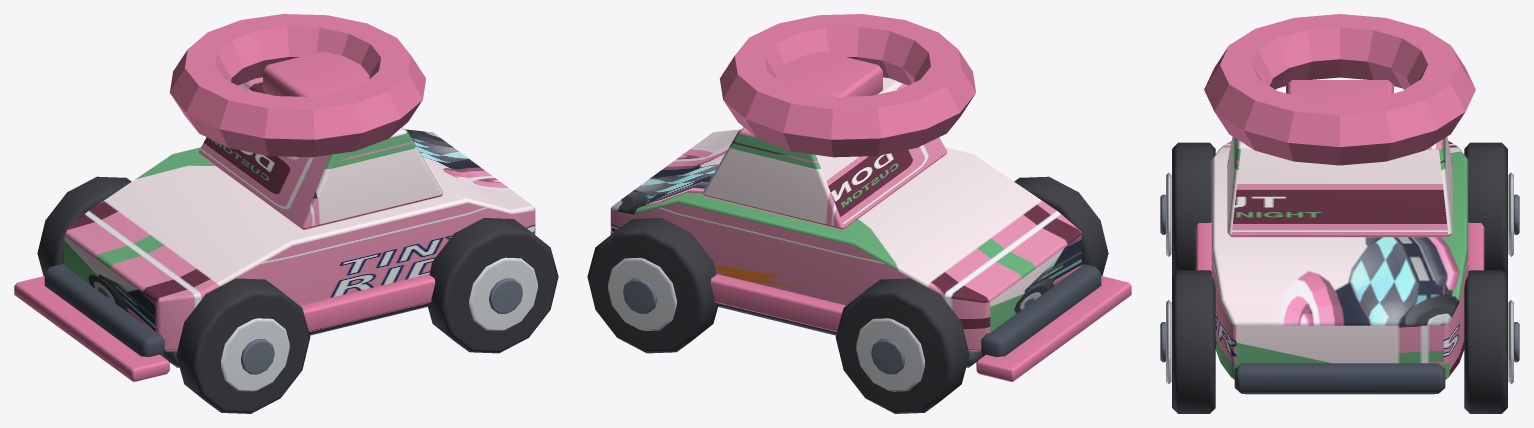
3 views of the same model, side by side, from view 1: azimuth 30°, elevation 25°; view 2: azimuth 150°, elevation 25°; view 3: azimuth 270°, elevation 25° (orthographic). The views are drawn at different scales.
Visible parts, largest first — view 1: SS-05_connected_shell, real donut ring, SS-05_cabin, Tire, Tire.002, custom chin, front bumper, custom side guard, custom equipment, Tire.001, Rim, Rim.002 (+3 smaller); view 2: SS-05_connected_shell, real donut ring, SS-05_cabin, Tire.001, Tire.003, custom chin, front bumper, custom side guard.001, custom equipment, Tire, Rim.001, Rim.003 (+3 smaller); view 3: SS-05_connected_shell, real donut ring, SS-05_cabin, rear bumper, Tire.002, Tire.003, Tire, Tire.001, custom equipment, custom side guard, custom side guard.001, Rim (+3 smaller).
Part boxes in pixels (bbox=[...]): SS-05_connected_shell: bbox=[64, 129, 535, 351]; real donut ring: bbox=[169, 14, 426, 157]; SS-05_cabin: bbox=[198, 77, 443, 230]; Tire: bbox=[176, 278, 310, 413]; Tire.002: bbox=[427, 218, 558, 353]; custom chin: bbox=[14, 276, 169, 382]; front bumper: bbox=[44, 263, 165, 356]; custom side guard: bbox=[299, 274, 435, 331]; custom equipment: bbox=[263, 51, 369, 96]; Tire.001: bbox=[37, 176, 131, 275]; Rim: bbox=[221, 318, 289, 391]; Rim.002: bbox=[469, 257, 537, 330]; SS-05_connected_shell: bbox=[610, 129, 1081, 351]; real donut ring: bbox=[719, 14, 976, 157]; SS-05_cabin: bbox=[702, 77, 947, 230]; Tire.001: bbox=[835, 278, 969, 413]; Tire.003: bbox=[587, 218, 718, 353]; custom chin: bbox=[976, 276, 1131, 382]; front bumper: bbox=[980, 263, 1101, 356]; custom side guard.001: bbox=[710, 274, 846, 331]; custom equipment: bbox=[776, 51, 882, 96]; Tire: bbox=[1014, 176, 1108, 275]; Rim.001: bbox=[856, 318, 924, 391]; Rim.003: bbox=[608, 257, 676, 330]; SS-05_connected_shell: bbox=[1211, 141, 1468, 379]; real donut ring: bbox=[1204, 14, 1475, 165]; SS-05_cabin: bbox=[1227, 136, 1452, 237]; rear bumper: bbox=[1234, 363, 1445, 393]; Tire.002: bbox=[1172, 270, 1215, 413]; Tire.003: bbox=[1464, 270, 1507, 413]; Tire: bbox=[1172, 142, 1215, 275]; Tire.001: bbox=[1464, 142, 1507, 275]; custom equipment: bbox=[1286, 80, 1393, 101]; custom side guard: bbox=[1195, 222, 1211, 271]; custom side guard.001: bbox=[1468, 222, 1484, 271]; Rim: bbox=[1166, 172, 1171, 256].
Bounding box in the file's own units: 309 × 183 × 214.
